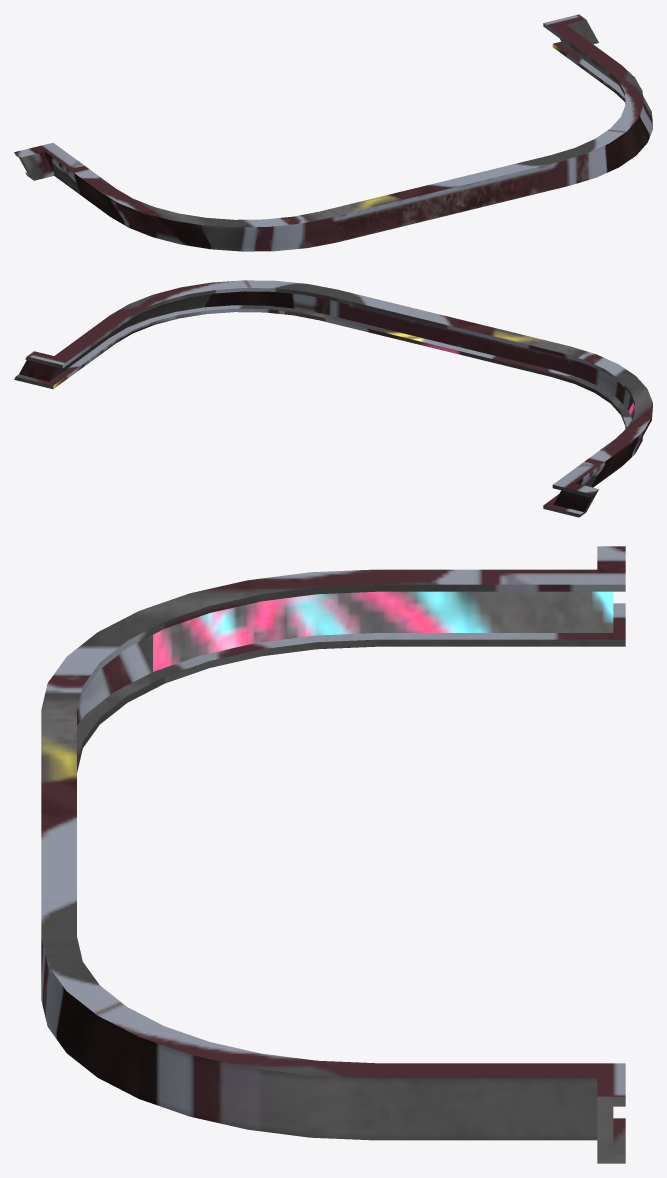
File: beam_vert_lean_R.fbx
3 renders of one model, top to bottom at view 1: azimuth 30°, elevation 25°; view 2: azimuth 150°, elevation 25°; view 3: azimuth 270°, elevation 25°, orthographic. The views are drawn at different scales.
Visible parts, largest first — view 1: beam_hor_02.002; view 2: beam_hor_02.002; view 3: beam_hor_02.002.
Boxes of the visible parts, x1,y1,x2,y2 form: beam_hor_02.002: [14, 14, 652, 251]; beam_hor_02.002: [14, 280, 652, 517]; beam_hor_02.002: [41, 546, 625, 1163].
Bounding box in the file's own units: 4767 × 209 × 2088.
